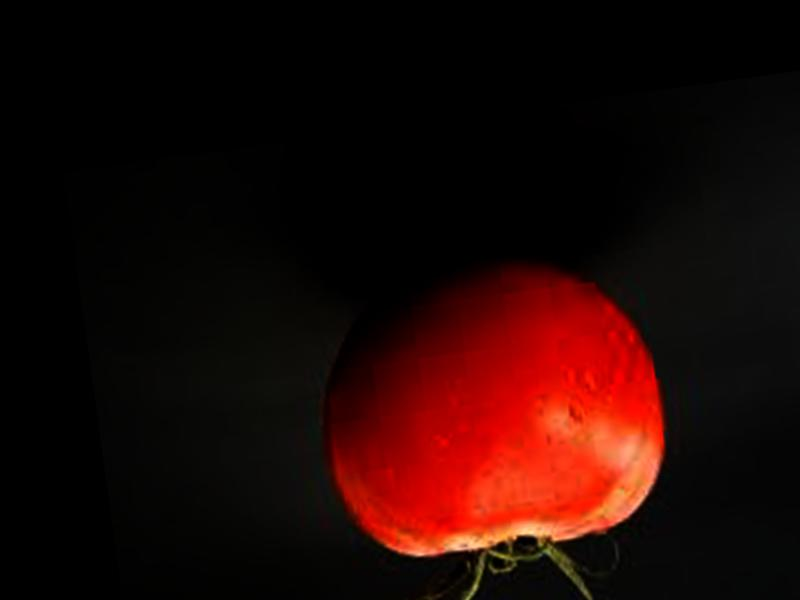Tomato: (306, 240, 682, 570)
